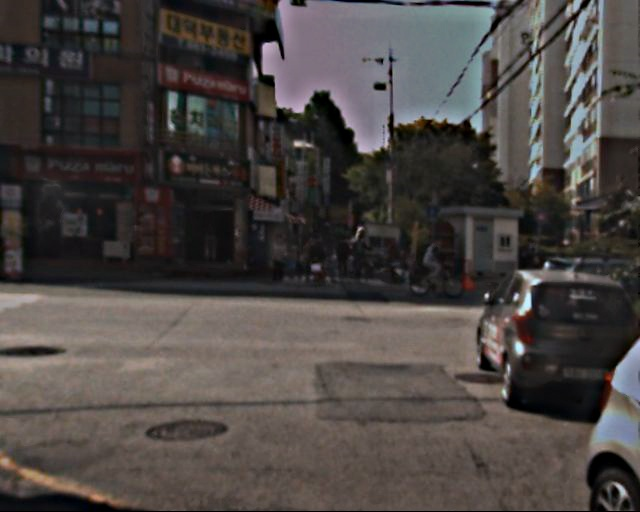person: (269, 232, 290, 282), (307, 233, 328, 283), (387, 237, 407, 286), (423, 238, 443, 287), (521, 238, 540, 285), (350, 235, 368, 279), (336, 237, 354, 280)
